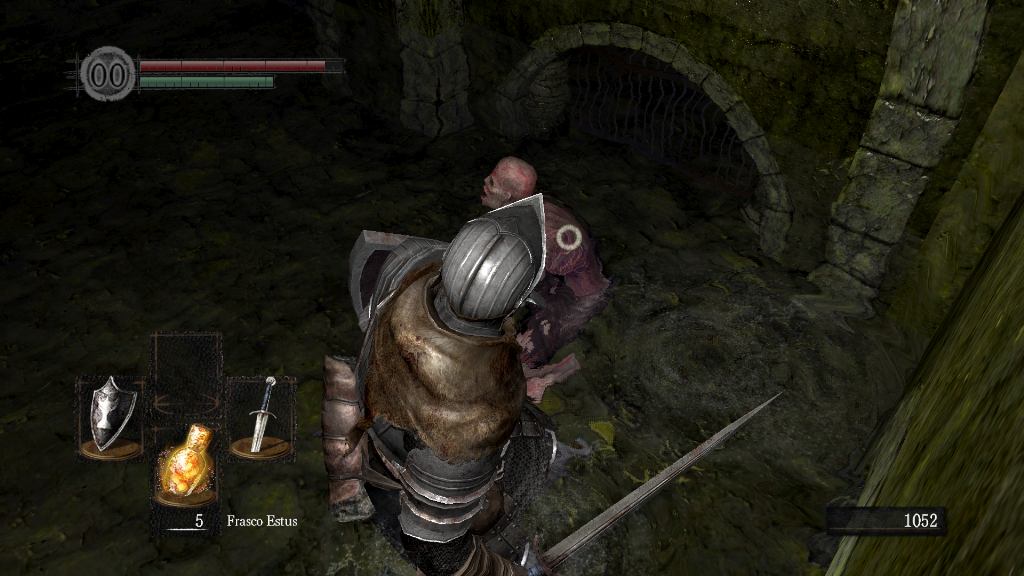health: (138, 58, 343, 71)
hollow: (472, 153, 616, 407)
humanity: (80, 45, 136, 102)
player: (321, 192, 784, 576)
souls: (825, 506, 945, 536)
stamina: (138, 74, 274, 88)
